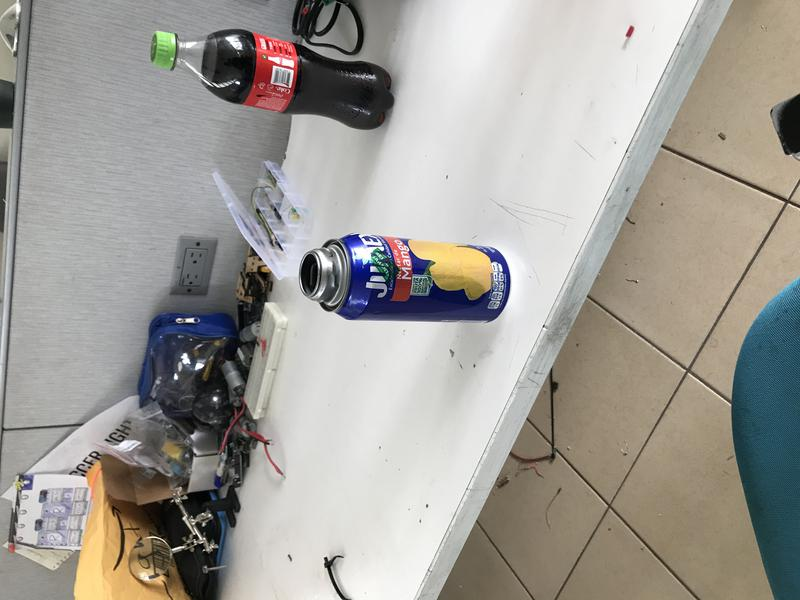jumex_botella: (301, 234, 512, 325)
